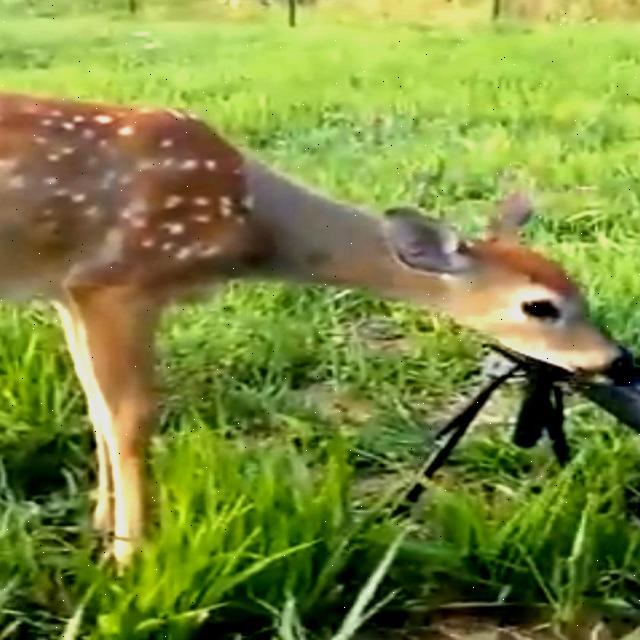deer: (372, 168, 640, 426)
